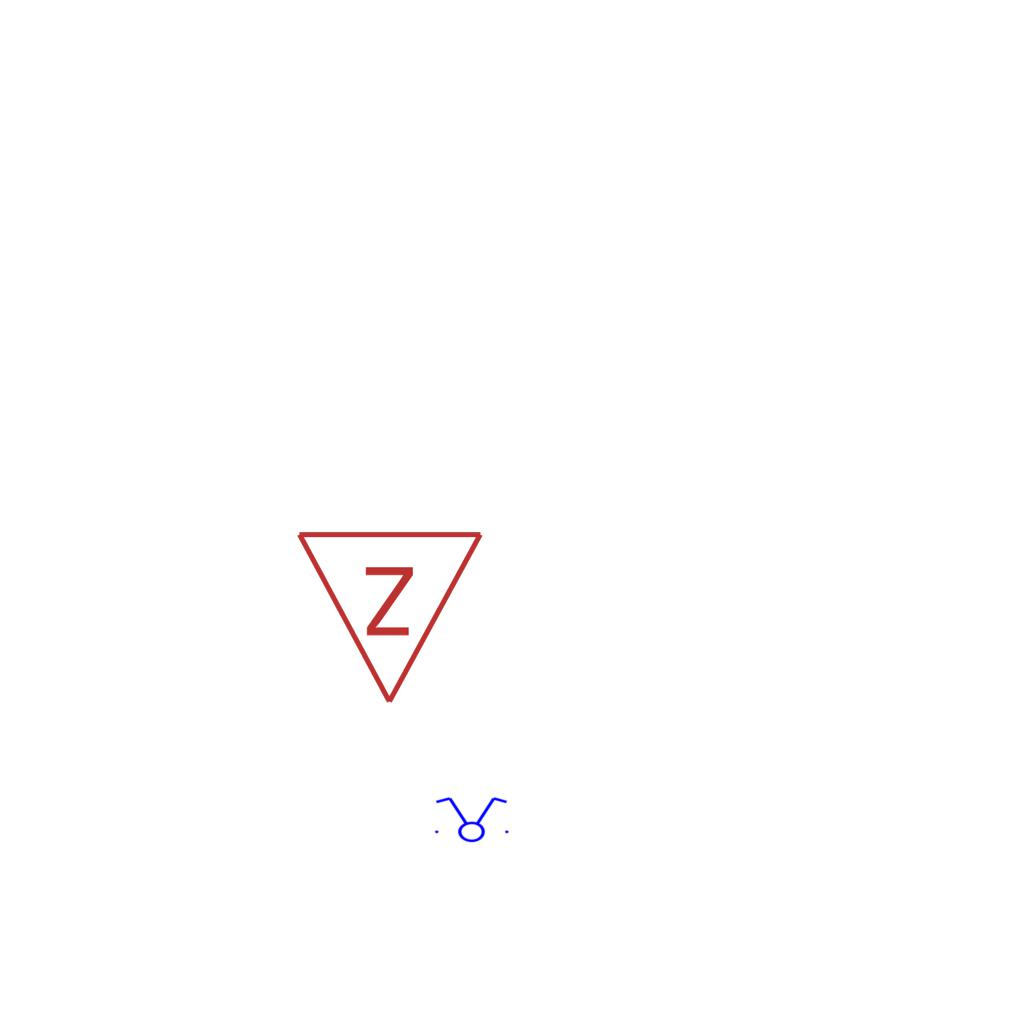Serienschalter: (429, 795, 513, 843)
Zimmersignalleuchte: (294, 517, 490, 717)
